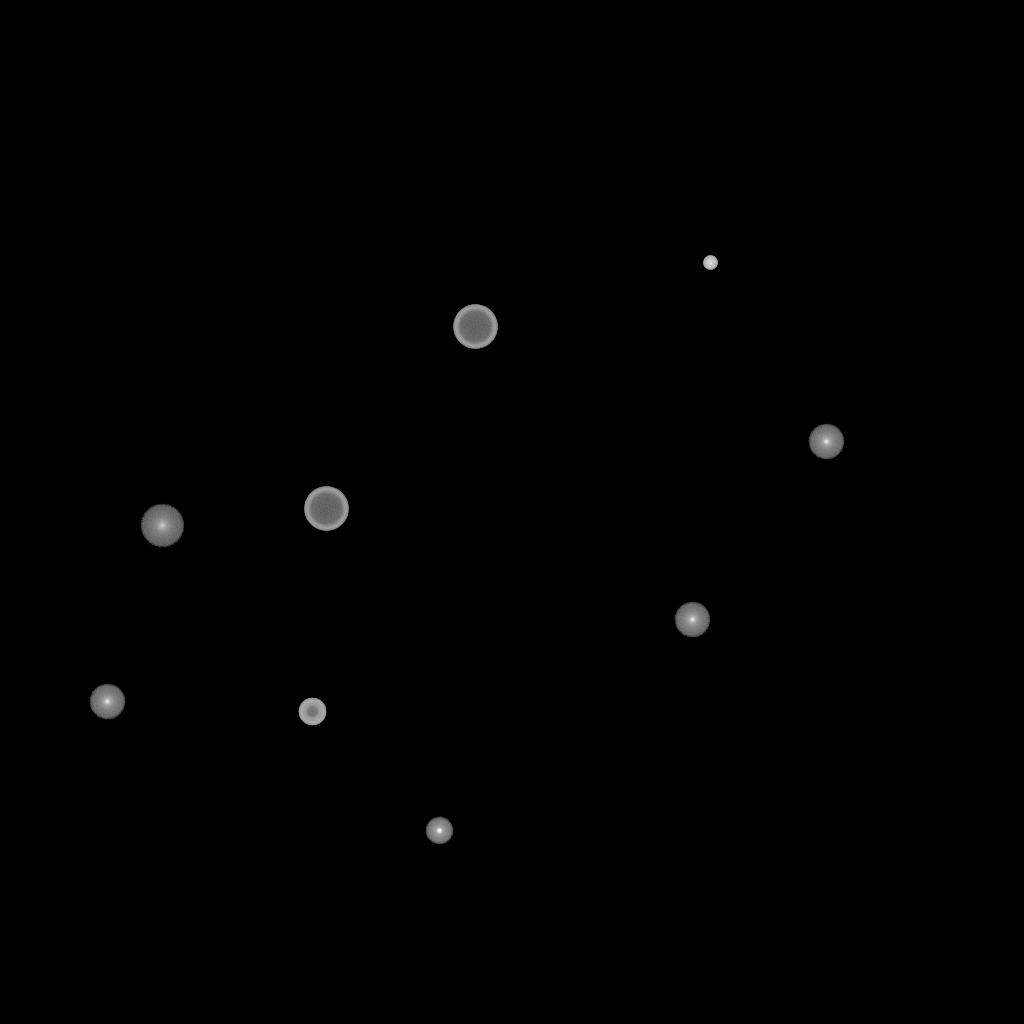depth:-10: (425, 817, 453, 845)
depth:-30: (703, 256, 717, 270)
depth:-50: (298, 698, 326, 726)
depth:-70: (453, 305, 497, 349), (304, 487, 348, 531)
depth:0: (674, 602, 710, 638), (89, 684, 125, 720), (808, 424, 844, 460)
depth:10: (140, 504, 184, 548)
